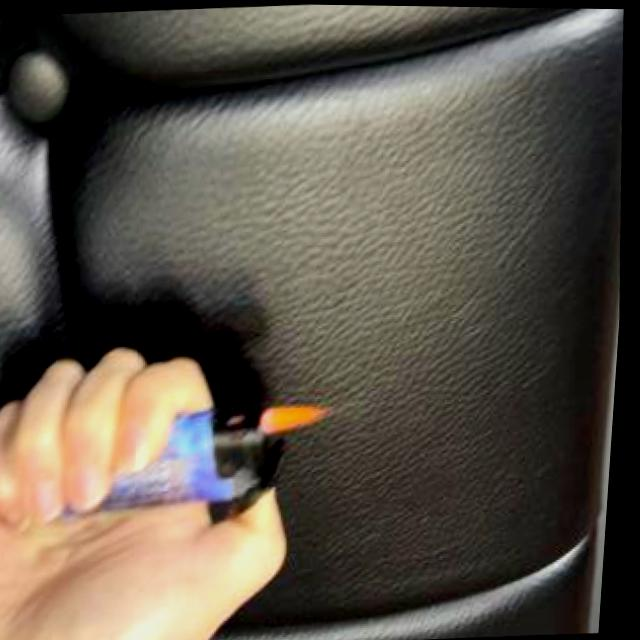fire: (260, 395, 349, 442)
